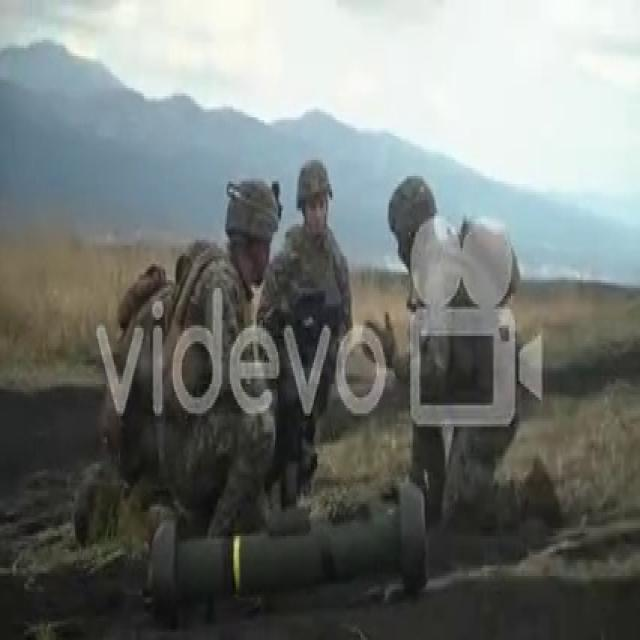bazooka: (146, 474, 433, 635)
